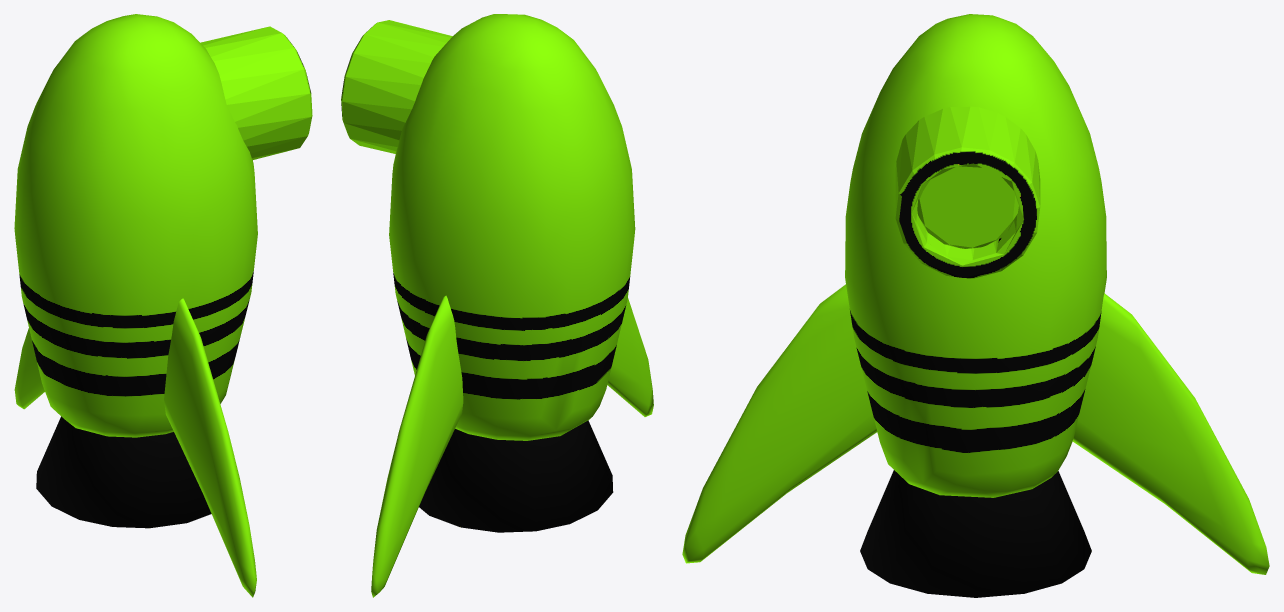
File: GreenShip63.fbx
The picture shows the model from 3 angles, left to right: view 1: azimuth 30°, elevation 25°; view 2: azimuth 150°, elevation 25°; view 3: azimuth 270°, elevation 25°; orthographic projection. The views are drawn at different scales.
Visible parts, largest first — view 1: Cylinder.005; view 2: Cylinder.005; view 3: Cylinder.005.
Part boxes in pixels (bbox=[...]): Cylinder.005: bbox=[14, 14, 312, 597]; Cylinder.005: bbox=[341, 14, 653, 597]; Cylinder.005: bbox=[682, 14, 1269, 597].
Size of the model in its own units: 118 by 219 by 213.
Materials: 1 (1 with a texture image).
